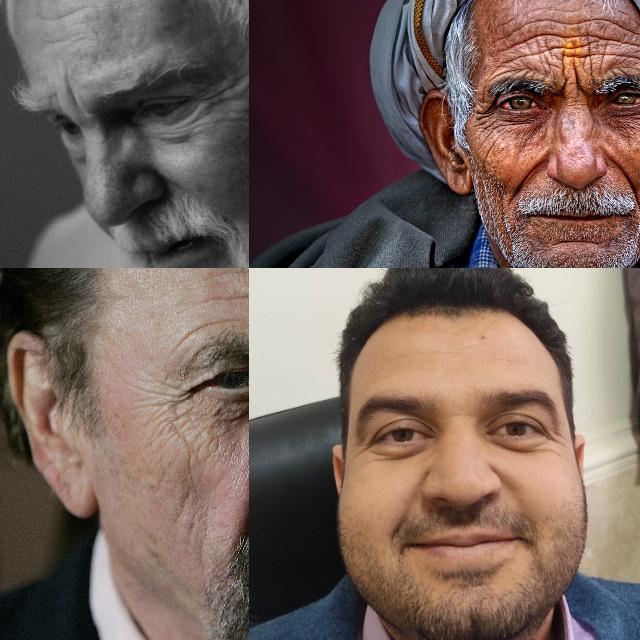crows_feet: (149, 381, 195, 419), (208, 77, 234, 113), (354, 434, 376, 468), (474, 99, 498, 127), (542, 428, 566, 452)
forehead: (178, 312, 240, 338), (604, 45, 640, 78), (566, 15, 604, 45), (609, 13, 640, 49), (498, 54, 536, 80), (498, 14, 524, 46), (554, 52, 588, 76), (42, 4, 78, 26), (532, 18, 560, 46), (416, 342, 464, 358), (38, 30, 74, 48), (233, 283, 249, 307)
frown_line: (556, 71, 590, 103), (62, 78, 84, 114), (445, 405, 471, 423)
gummy_smile: (396, 480, 420, 534), (511, 159, 541, 197), (611, 157, 640, 195)
masseter: (475, 138, 499, 168)
